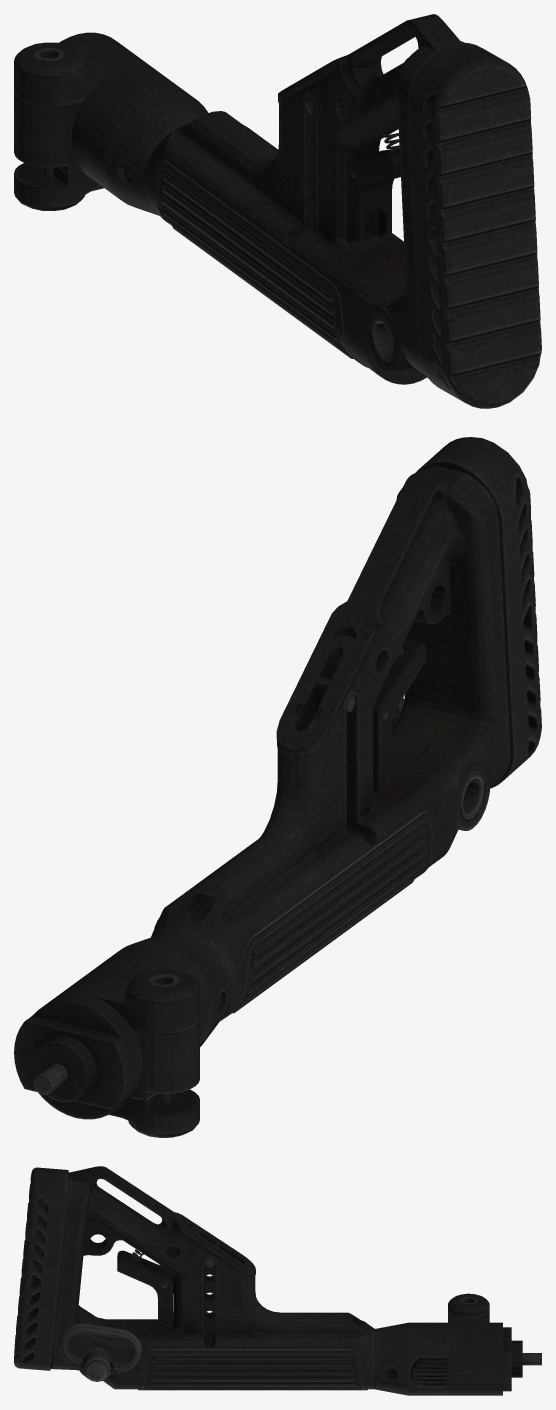
3 renders of one model, top to bottom at view 1: azimuth 30°, elevation 25°; view 2: azimuth 150°, elevation 25°; view 3: azimuth 270°, elevation 25°, orthographic. The views are drawn at different scales.
Parts seen in each view (by area): view 1: TW_653ed132896b99b40a0292e6_PZ_Import; view 2: TW_653ed132896b99b40a0292e6_PZ_Import; view 3: TW_653ed132896b99b40a0292e6_PZ_Import.
Part boxes in pixels (bbox=[...]): TW_653ed132896b99b40a0292e6_PZ_Import: bbox=[14, 14, 541, 408]; TW_653ed132896b99b40a0292e6_PZ_Import: bbox=[14, 437, 541, 1137]; TW_653ed132896b99b40a0292e6_PZ_Import: bbox=[14, 1166, 541, 1395].
Bounding box in the file's own units: 0.0318 × 0.1467 × 0.0709.
1 material, 1 textured.
